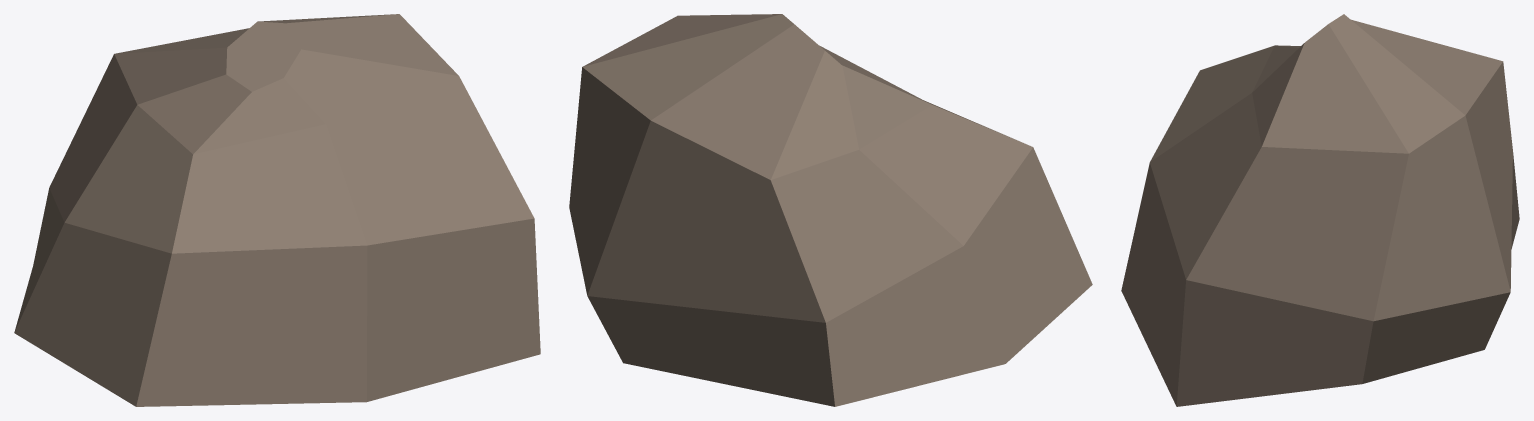
The model's file is SM_Rock_C.fbx.
The picture shows the model from 3 angles, left to right: view 1: azimuth 30°, elevation 25°; view 2: azimuth 150°, elevation 25°; view 3: azimuth 270°, elevation 25°; orthographic projection. The views are drawn at different scales.
Visible parts, largest first — view 1: Rock_C; view 2: Rock_C; view 3: Rock_C.
Part boxes in pixels (x1,y1,x2,y2): Rock_C: (14, 14, 540, 406); Rock_C: (569, 14, 1092, 406); Rock_C: (1121, 14, 1519, 406).
Bounding box in the file's own units: 111 × 92.45 × 77.3.
